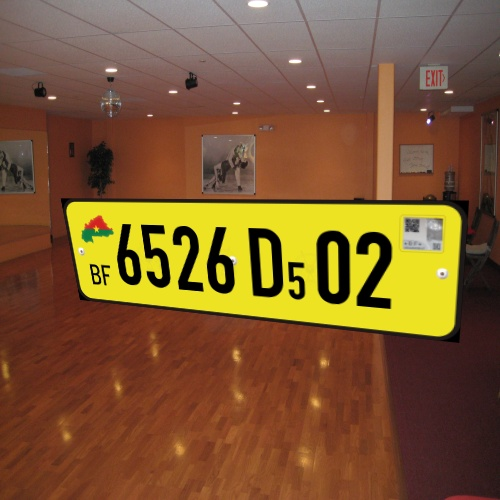plate: (52, 180, 470, 355)
